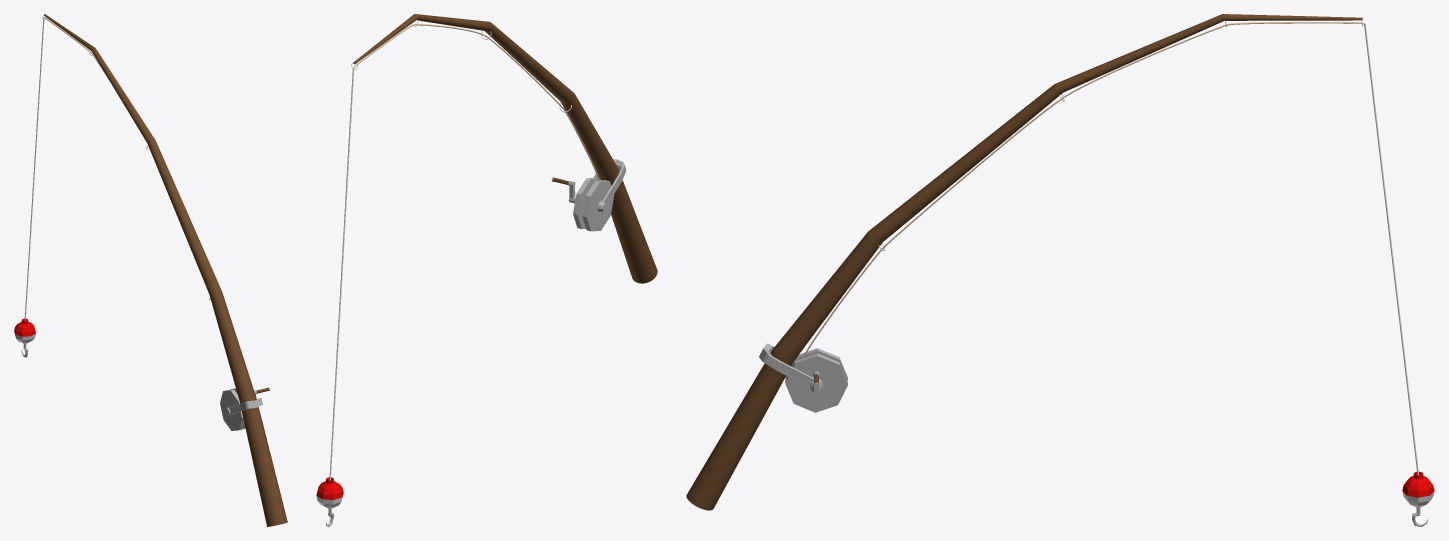
File: FishingRod_Prop.fbx
3 renders of one model, left to right at view 1: azimuth 30°, elevation 25°; view 2: azimuth 150°, elevation 25°; view 3: azimuth 270°, elevation 25°, orthographic. The views are drawn at different scales.
Visible parts, largest first — view 1: Cylinder, Cylinder.001, Cylinder.003, Sphere; view 2: Cylinder, Cylinder.001, Cylinder.003, Sphere, BezierCurve; view 3: Cylinder, Cylinder.001, BezierCurve, Cylinder.003, Sphere.
Part boxes in pixels (x1,y1,x2,y2): Cylinder: (44, 14, 287, 526); Cylinder.001: (220, 388, 262, 430); Cylinder.003: (24, 18, 44, 320); Sphere: (14, 318, 35, 357); Cylinder: (353, 14, 657, 283); Cylinder.001: (573, 159, 626, 231); Cylinder.003: (329, 69, 354, 480); Sphere: (316, 477, 343, 526); BezierCurve: (352, 24, 599, 180); Cylinder: (686, 14, 1362, 510); Cylinder.001: (759, 343, 847, 412); BezierCurve: (801, 22, 1365, 358); Cylinder.003: (1364, 25, 1418, 474); Sphere: (1402, 471, 1434, 526).
Size of the model in its own units: 124 by 1005 by 1330.
